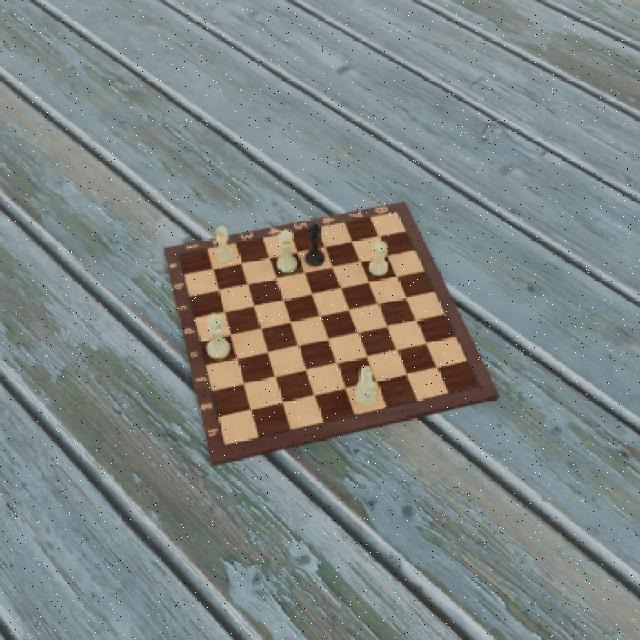black-king: (304, 222, 327, 270)
white-bishop: (210, 223, 237, 264)
white-king: (202, 310, 234, 360)
white-knight: (355, 365, 376, 407)
white-queen: (273, 230, 301, 274)
white-rook: (366, 240, 389, 279)
